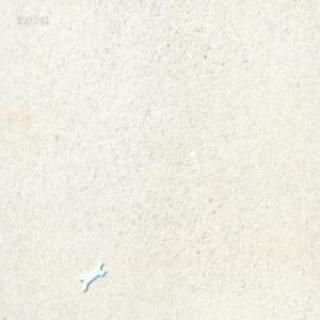Wrenchtrack_idkeyframe: (80, 261, 106, 291)
